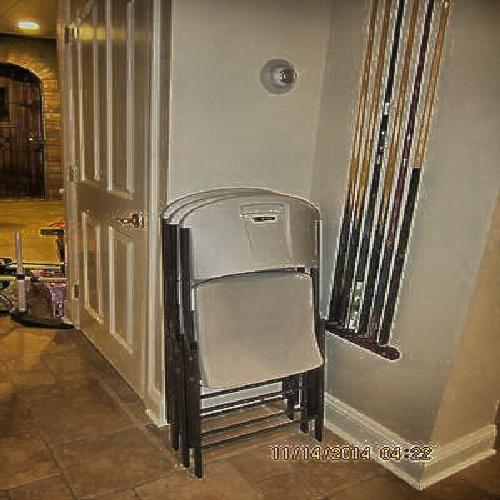chair: (161, 193, 336, 455)
